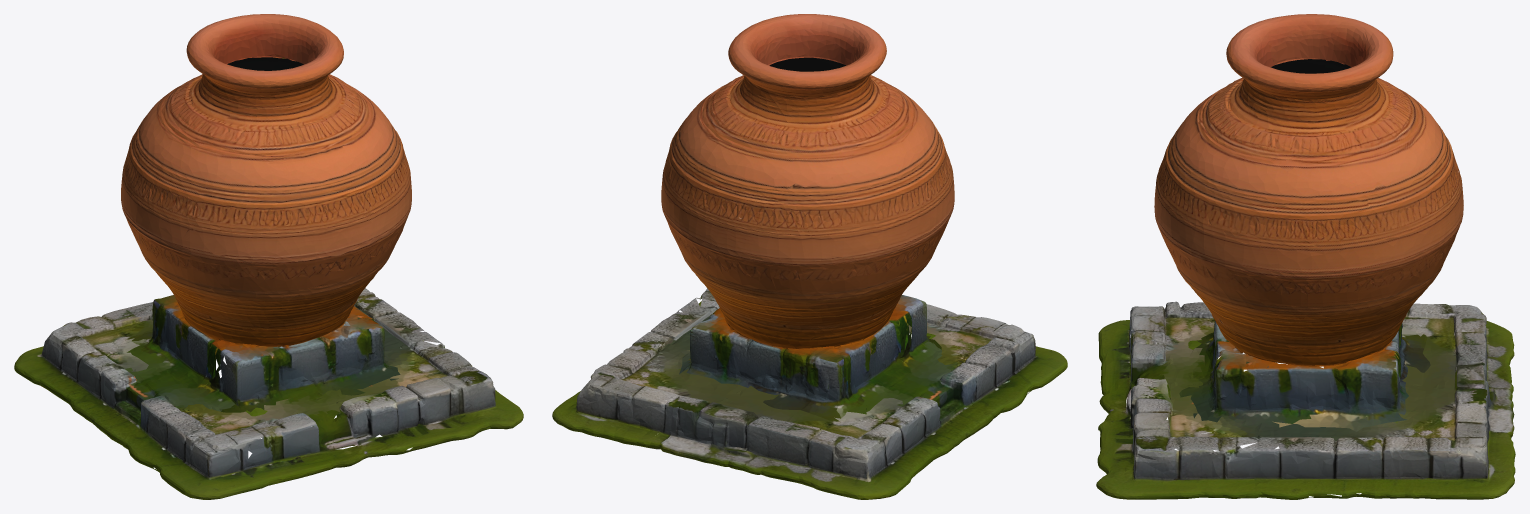
File: ceremonial-terracotta-urn-optimized.glb
3 views of the same model, side by side, from view 1: azimuth 30°, elevation 25°; view 2: azimuth 150°, elevation 25°; view 3: azimuth 270°, elevation 25° (orthographic). The views are drawn at different scales.
Visible parts, largest first — view 1: b8feb270-6e23-4c48-bb11-02d7a502eb02_texturing.obj; view 2: b8feb270-6e23-4c48-bb11-02d7a502eb02_texturing.obj; view 3: b8feb270-6e23-4c48-bb11-02d7a502eb02_texturing.obj.
Part boxes in pixels (x1,y1,x2,y2): b8feb270-6e23-4c48-bb11-02d7a502eb02_texturing.obj: (14, 14, 523, 499); b8feb270-6e23-4c48-bb11-02d7a502eb02_texturing.obj: (552, 14, 1067, 499); b8feb270-6e23-4c48-bb11-02d7a502eb02_texturing.obj: (1096, 14, 1515, 499).
Size of the model in its own units: 0.8933 by 0.8729 by 0.9.
1 material, 1 textured.
